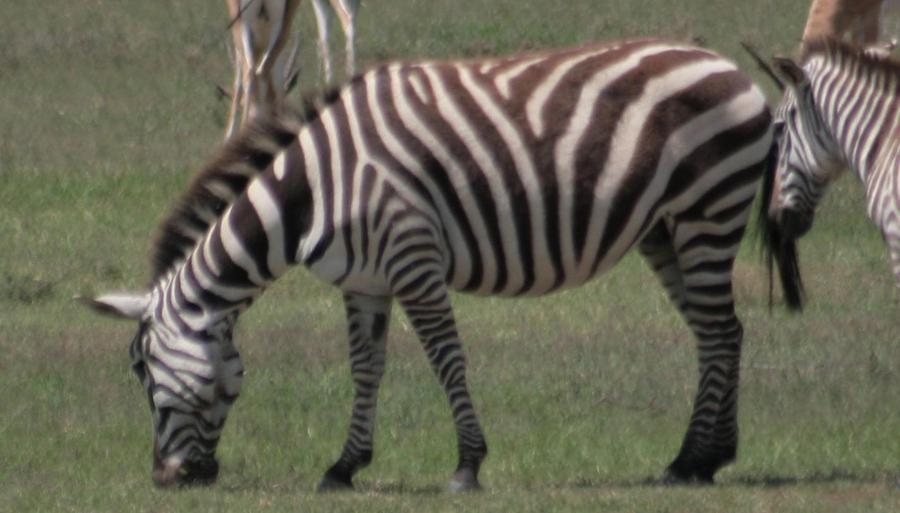zebra_plains: (289, 18, 801, 318)
